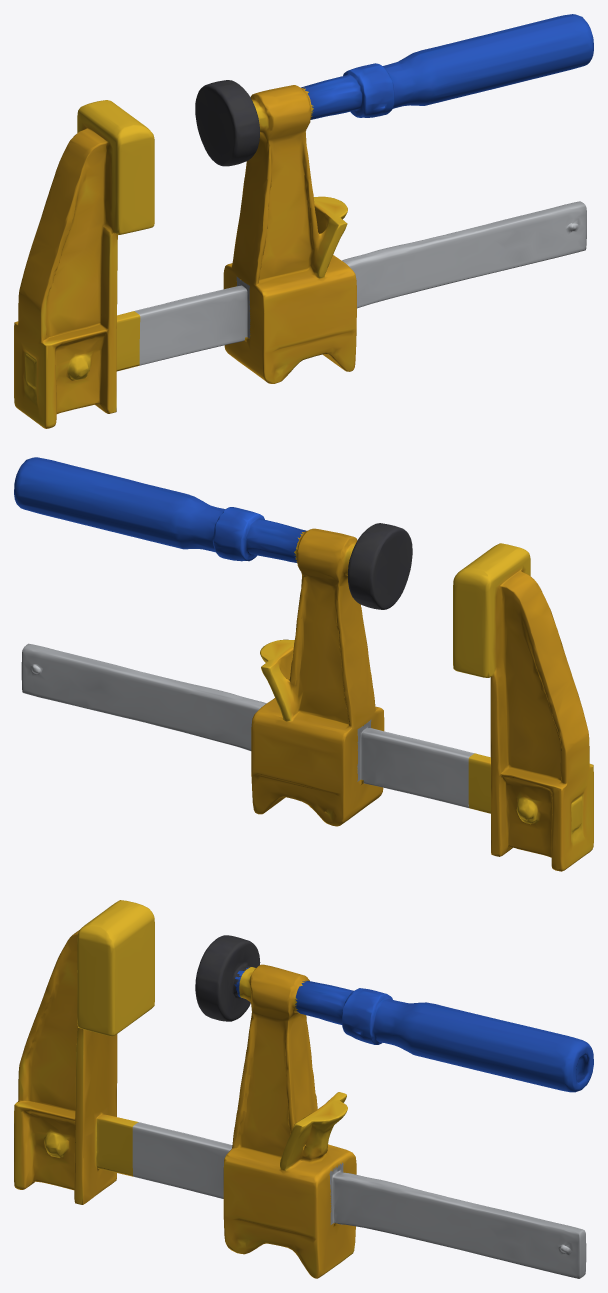
File: hcrg-clamp-03.glb
The picture shows the model from 3 angles, top to bottom: view 1: azimuth 30°, elevation 25°; view 2: azimuth 150°, elevation 25°; view 3: azimuth 330°, elevation 25°; orthographic projection.
Parts seen in each view (by area): view 1: fixed jaw, sliding jaw, bar, screw handle, swivel pad; view 2: fixed jaw, sliding jaw, bar, screw handle, swivel pad; view 3: fixed jaw, sliding jaw, bar, screw handle, swivel pad.
Part boxes in pixels (left/top/right/bottom): fixed jaw: left=14, top=100, right=154, bottom=428; sliding jaw: left=223, top=85, right=356, bottom=383; bar: left=134, top=201, right=586, bottom=365; screw handle: left=301, top=14, right=593, bottom=119; swivel pad: left=195, top=80, right=259, bottom=166; fixed jaw: left=453, top=543, right=593, bottom=871; sliding jaw: left=251, top=528, right=384, bottom=826; bar: left=21, top=643, right=474, bottom=807; screw handle: left=14, top=457, right=307, bottom=562; swivel pad: left=347, top=523, right=412, bottom=609; fixed jaw: left=14, top=900, right=154, bottom=1204; sliding jaw: left=223, top=964, right=356, bottom=1278; bar: left=132, top=1122, right=586, bottom=1278; screw handle: left=234, top=967, right=593, bottom=1092; swivel pad: left=195, top=935, right=260, bottom=1021.
Bounding box in the file's own units: 0.2523 × 0.1304 × 0.0353.
